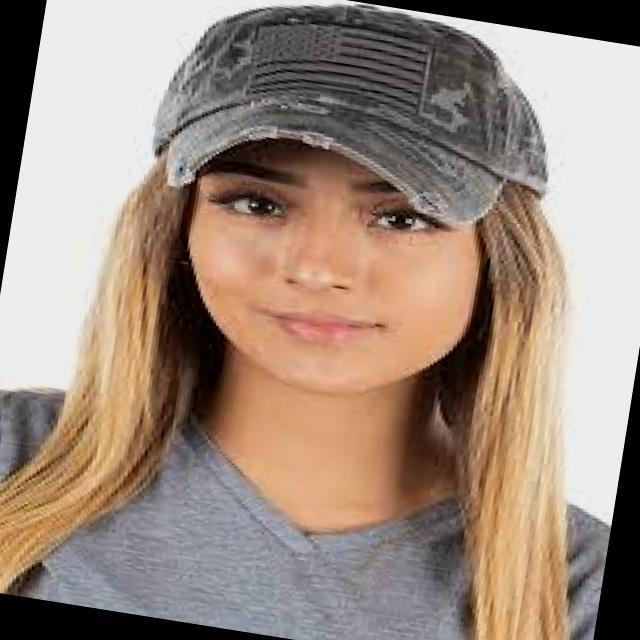cap: (119, 0, 588, 284)
